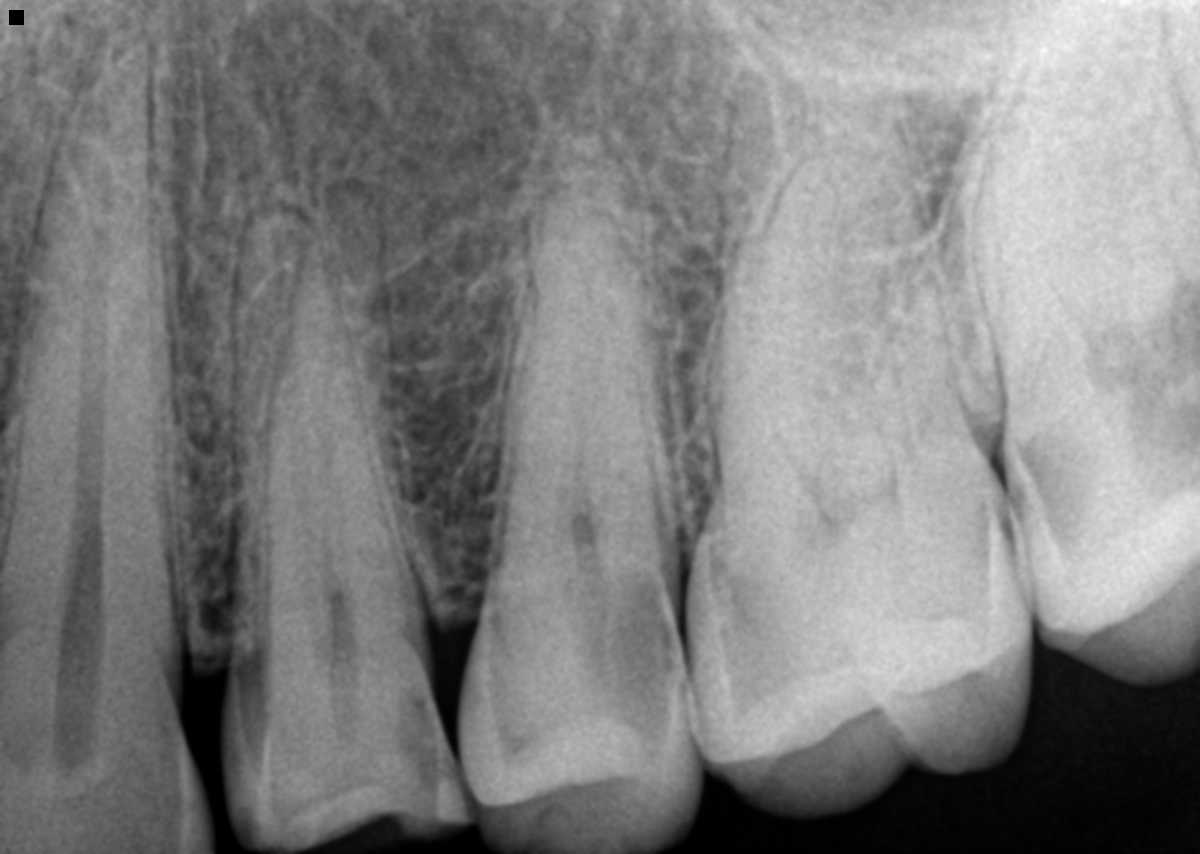Distal Root: (873, 117, 1044, 441)
Main Canal: (52, 127, 115, 658), (568, 381, 606, 587), (318, 526, 354, 644)
Main Root: (4, 32, 175, 667), (481, 130, 675, 593), (231, 203, 414, 661), (254, 154, 419, 648)
Mesial Root: (718, 149, 896, 513)
Palatal Root: (716, 0, 960, 479)
decay: (713, 541, 827, 713), (606, 573, 678, 743), (1012, 435, 1101, 562), (391, 686, 448, 802), (949, 507, 990, 620), (576, 589, 609, 675)
